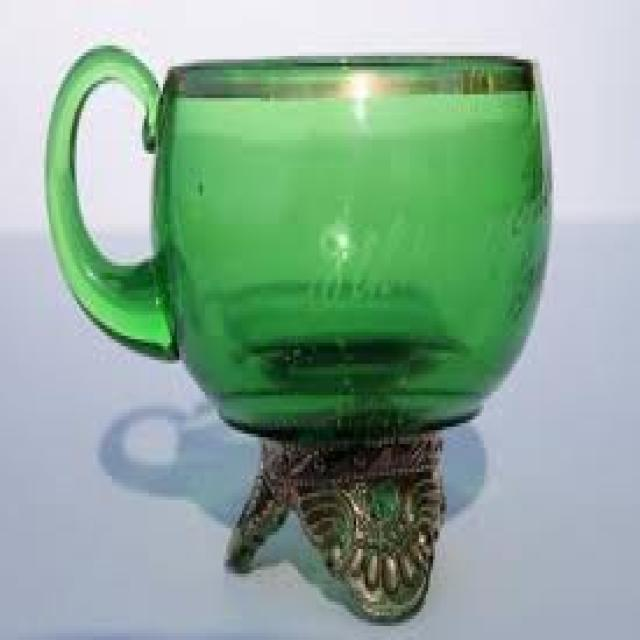glass: (42, 42, 549, 437)
